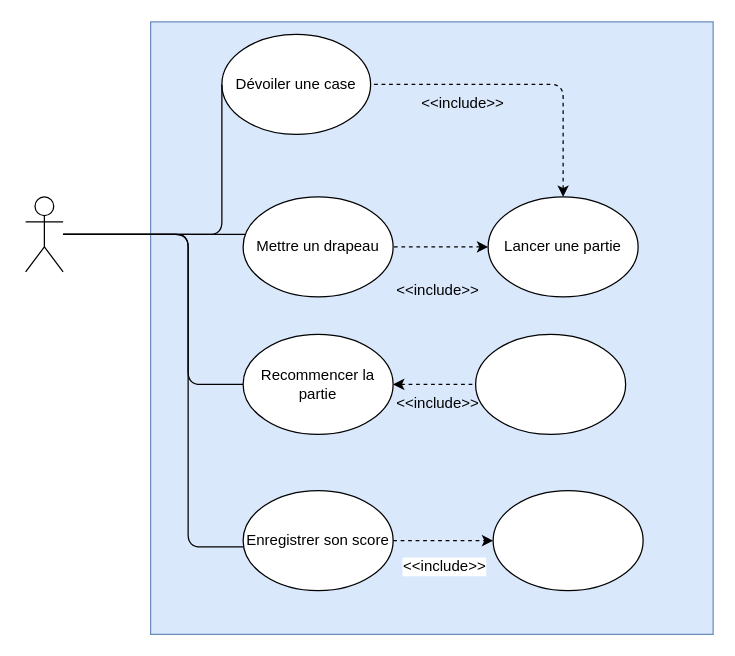
This 735x656 diagram has some shape labels left out. Here are the shapes that lost their labels. From the top down, the centre of each, then its label:
At (43,234): "Joueur".
At (550,383): "Choisir un autre niveau de difficulté".
At (567,540): "S'authentifier".
